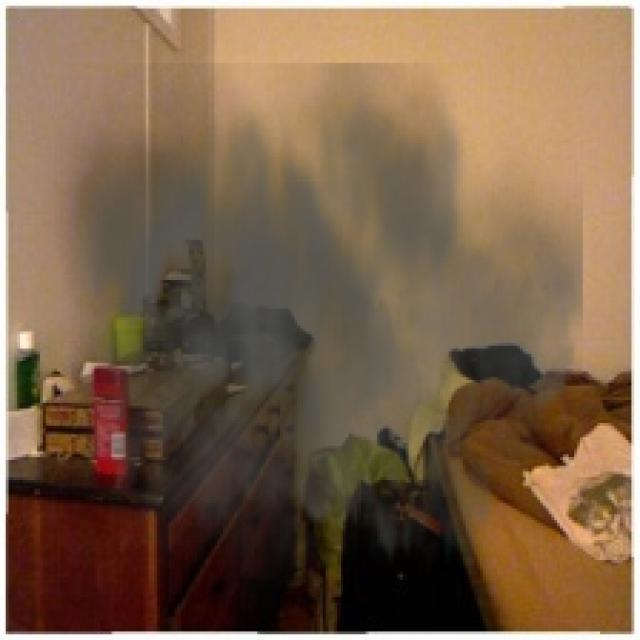smoke: (34, 63, 583, 623)
